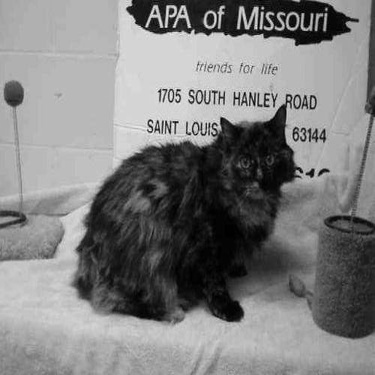cat: (63, 95, 300, 319)
